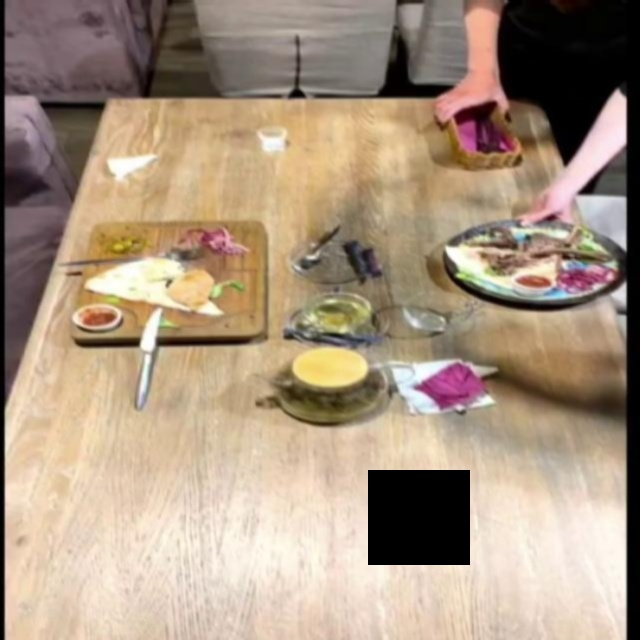meat: (74, 210, 275, 347), (468, 189, 604, 332)
tea: (262, 350, 422, 434)
